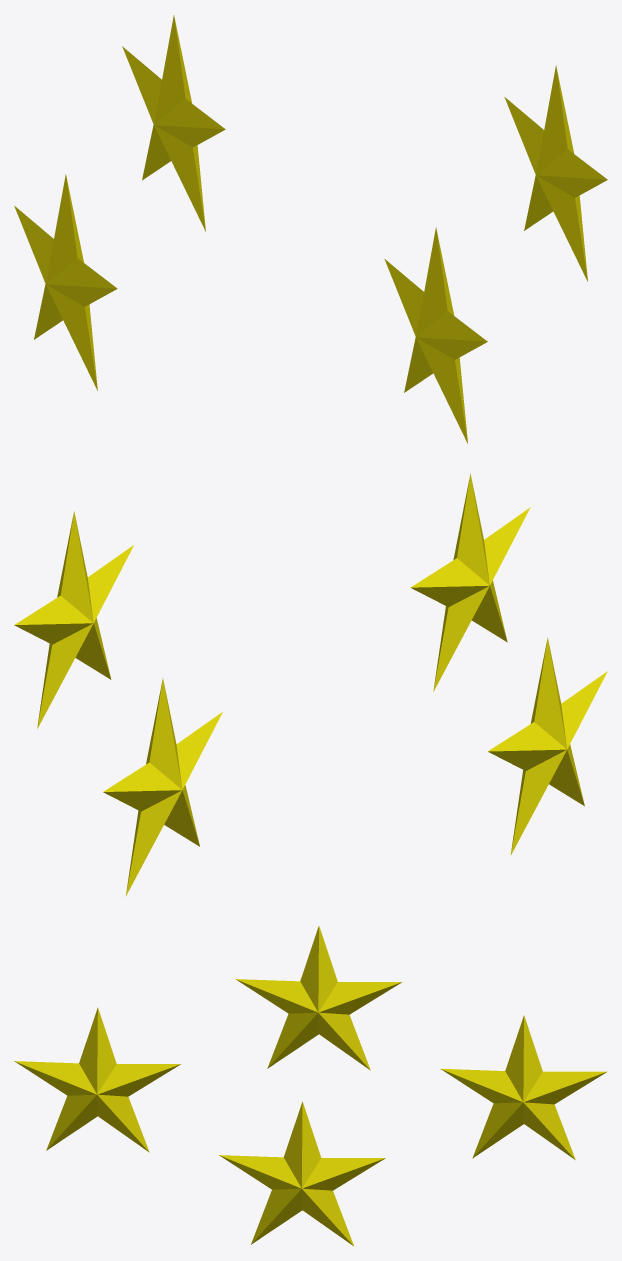
Rendered from star_no_anim.fbx.
3 views of the same model, one above another, from view 1: azimuth 30°, elevation 25°; view 2: azimuth 150°, elevation 25°; view 3: azimuth 270°, elevation 25° (orthographic). The views are drawn at different scales.
Parts seen in each view (by area): view 1: star, star.003, star.001, star.002; view 2: star, star.001, star.002, star.003; view 3: star.003, star.001, star.002, star.
Part boxes in pixels (x1,y1,x2,y2): star: (14,174,117,390); star.003: (122,15,225,231); star.001: (384,227,487,443); star.002: (504,65,607,281); star: (488,637,607,855); star.001: (410,473,530,691); star.002: (14,511,133,729); star.003: (103,678,222,895); star.003: (440,1015,607,1159); star.001: (14,1007,180,1152); star.002: (219,1101,385,1246); star: (235,926,401,1070).
Size of the model in its own units: 84.6 by 29.94 by 111.
